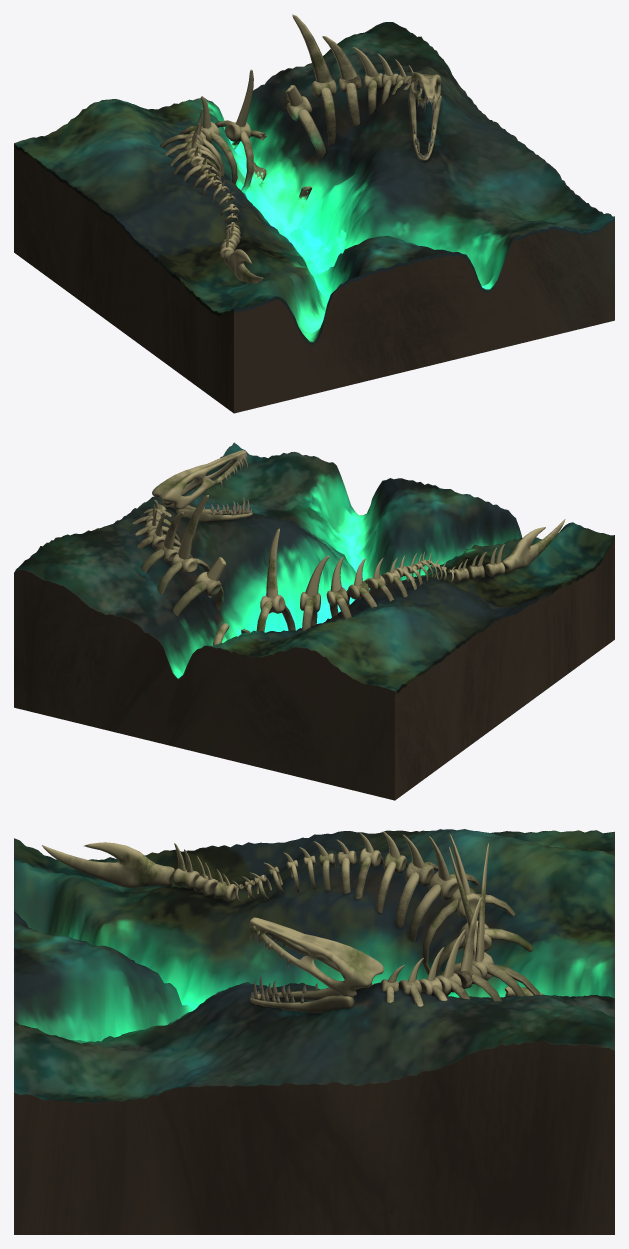
The model's file is underwater_environment.glb.
3 views of the same model, one above another, from view 1: azimuth 30°, elevation 25°; view 2: azimuth 150°, elevation 25°; view 3: azimuth 270°, elevation 25° (orthographic). The views are drawn at different scales.
Visible parts, largest first — view 1: Object_3, Object_6, Object_4, Object_5; view 2: Object_6, Object_3, Object_4, Object_5; view 3: Object_3, Object_6, Object_4, Object_5.
Boxes of the visible parts, x1,y1,x2,y2 form: Object_3: [14, 22, 614, 342]; Object_6: [14, 72, 614, 413]; Object_4: [164, 36, 434, 247]; Object_5: [160, 14, 436, 258]; Object_6: [14, 450, 614, 800]; Object_3: [14, 442, 614, 691]; Object_4: [132, 500, 504, 645]; Object_5: [137, 454, 505, 619]; Object_3: [14, 829, 614, 1102]; Object_6: [14, 842, 614, 1234]; Object_4: [174, 831, 543, 1006]; Object_5: [172, 836, 525, 1002].
Bounding box in the file's own units: 2049 × 1106 × 2049.
Materials: 1 (1 with a texture image).
